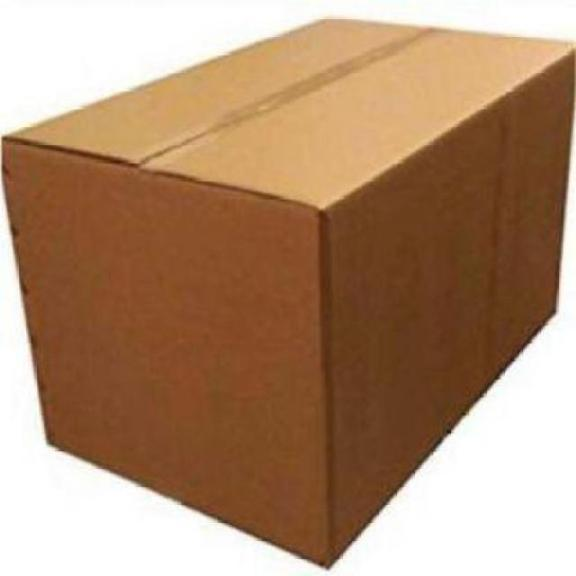Kertas: (3, 19, 575, 564)
